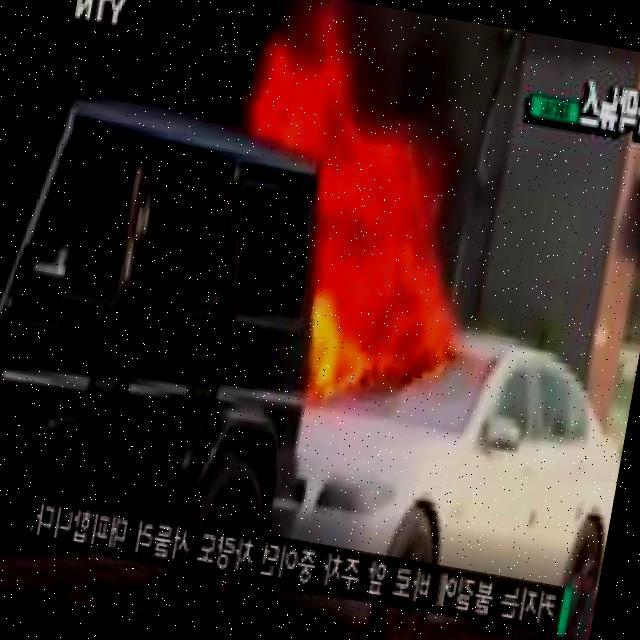Fire: (213, 53, 473, 415)
